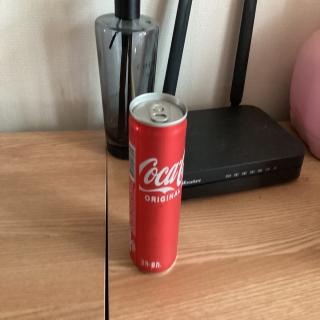cocacola: (126, 90, 189, 274)
